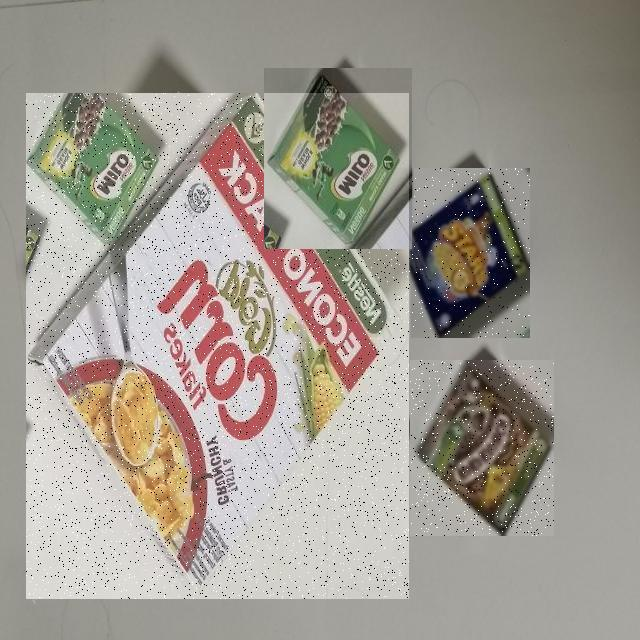Cereal: (26, 93, 409, 599), (264, 68, 412, 249), (410, 361, 554, 537), (394, 168, 530, 338)
